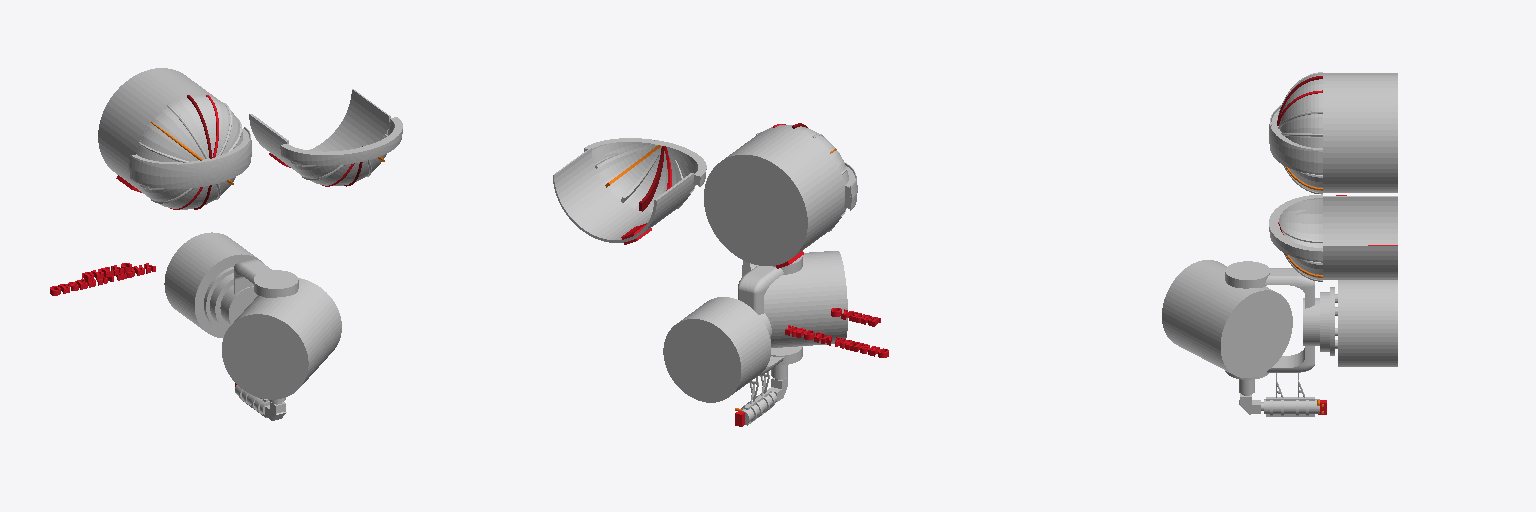
The model's file is tinker(4).obj.
3 renders of one model, left to right at view 1: azimuth 30°, elevation 25°; view 2: azimuth 150°, elevation 25°; view 3: azimuth 270°, elevation 25°, orthographic.
Visible parts, largest first — view 1: obj_0; view 2: obj_0; view 3: obj_0.
Boxes of the visible parts, box(x1,y1,x2,y2) form: obj_0: box(50, 68, 402, 420); obj_0: box(553, 123, 888, 426); obj_0: box(1162, 72, 1397, 416).
Bounding box in the file's own units: 250 × 231 × 157.